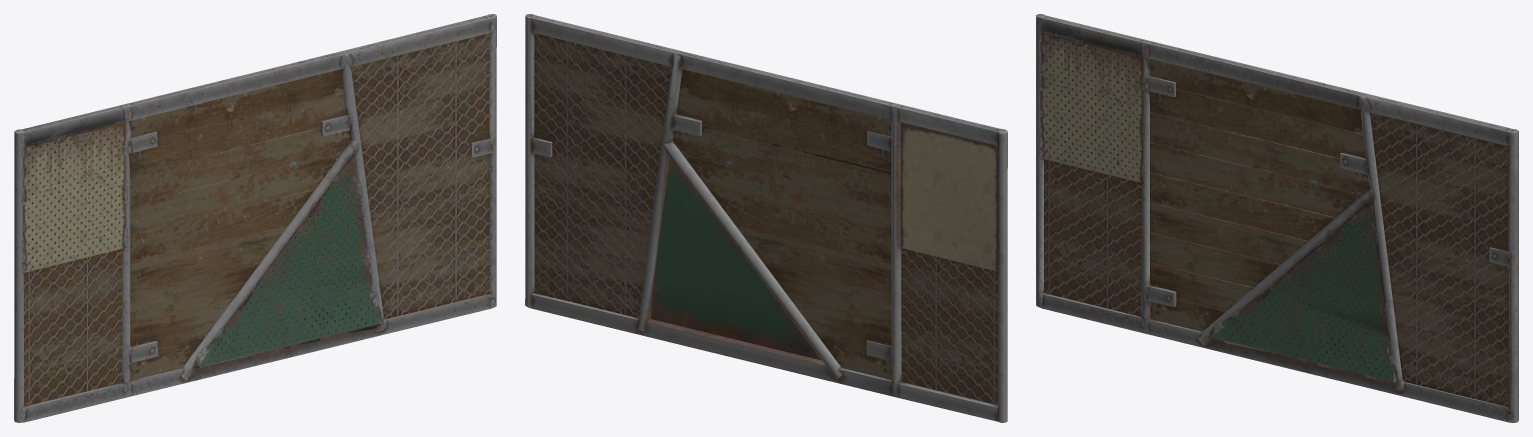
Rendered from weaponrack_wide.deployed.glb.
3 renders of one model, left to right at view 1: azimuth 30°, elevation 25°; view 2: azimuth 150°, elevation 25°; view 3: azimuth 330°, elevation 25°, orthographic.
Parts seen in each view (by area): view 1: LargeWideWallRack; view 2: LargeWideWallRack; view 3: LargeWideWallRack.
Part boxes in pixels (x1,y1,x2,y2): LargeWideWallRack: (14, 14, 496, 422); LargeWideWallRack: (525, 14, 1007, 422); LargeWideWallRack: (1036, 14, 1518, 422).
Size of the model in its own units: 2.59 by 1.5 by 0.0705.
Materials: 1 (1 with a texture image).
